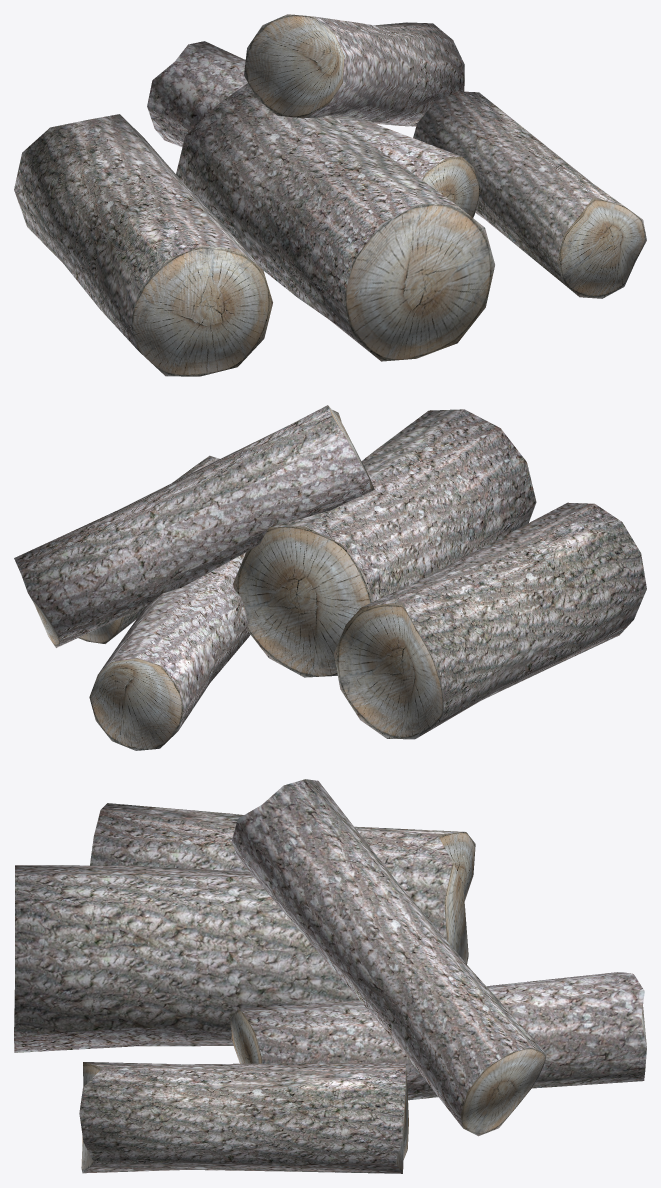
The model's file is Firewood_2.fbx.
3 renders of one model, top to bottom at view 1: azimuth 30°, elevation 25°; view 2: azimuth 150°, elevation 25°; view 3: azimuth 270°, elevation 25°, orthographic. The views are drawn at different scales.
Parts seen in each view (by area): view 1: Firewood_2; view 2: Firewood_2; view 3: Firewood_2.
Boxes of the visible parts, x1,y1,x2,y2 form: Firewood_2: [14, 14, 646, 376]; Firewood_2: [14, 405, 646, 750]; Firewood_2: [14, 779, 646, 1173].
Bounding box in the file's own units: 188 × 93.25 × 191.
